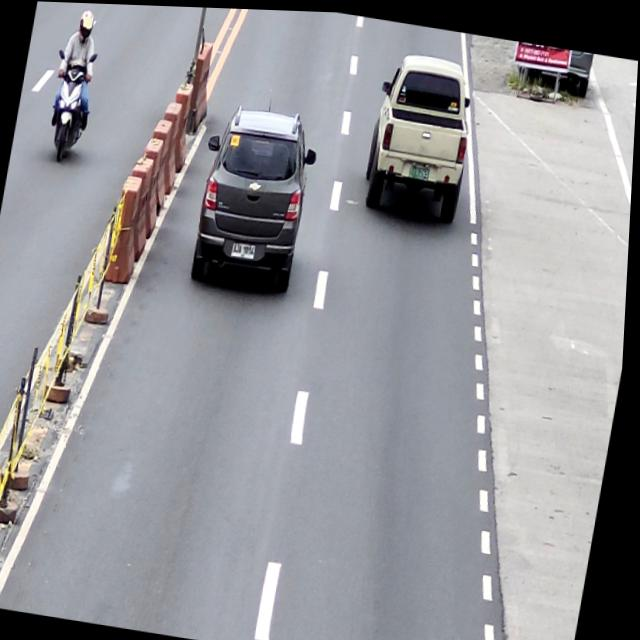Car: (186, 100, 323, 296), (358, 46, 484, 222)
License-Plate: (233, 240, 258, 258), (409, 161, 432, 179)
